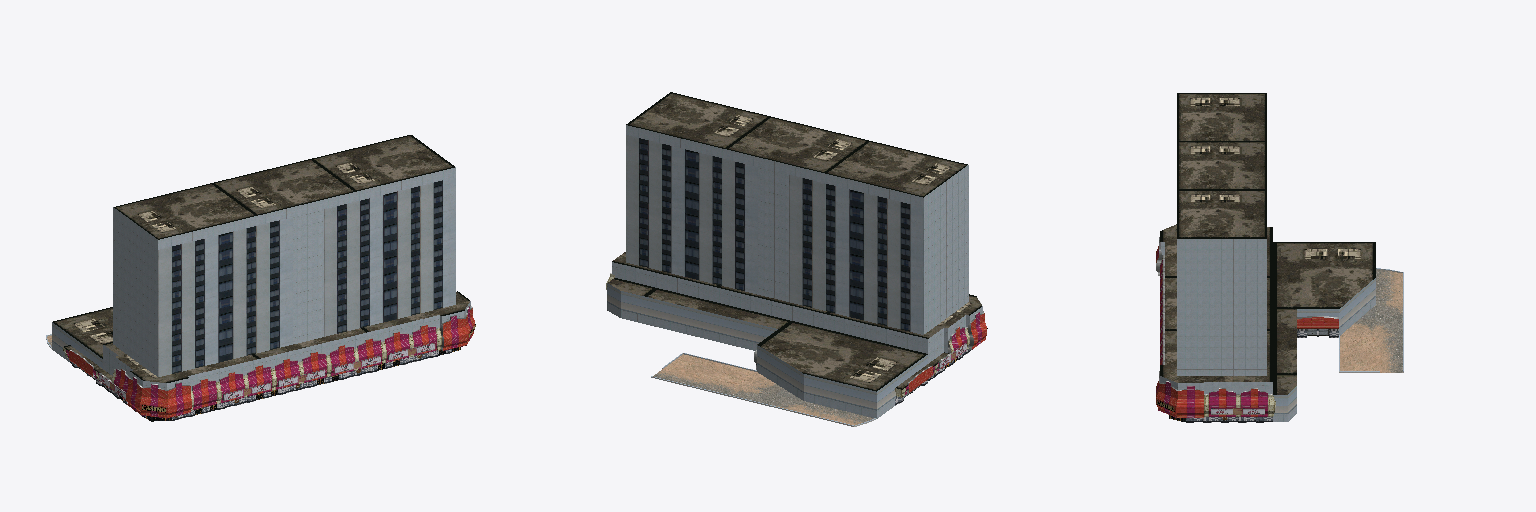
The picture shows the model from 3 angles: view 1: azimuth 30°, elevation 25°; view 2: azimuth 150°, elevation 25°; view 3: azimuth 270°, elevation 25°; orthographic projection.
Parts seen in each view (by area): view 1: e0fb4a8_obj, e0e80a8_obj, e0f7e50_obj, e0cc748_obj, e0ca0c8_obj, e0ea8e8_obj, e0c2ec8_obj, e0e0da8_obj, e0f57c0_obj; view 2: e0fb4a8_obj, e0e80a8_obj, e0f7e50_obj, e0f57c0_obj, e0b8428_obj, e0bc858_obj, e0cc748_obj, e0c0c78_obj, e0f2870_obj; view 3: e0e80a8_obj, e0f7e50_obj, e0cc748_obj, e0bc858_obj, e0f57c0_obj, e0b8428_obj, e0c0c78_obj, e0ea8e8_obj.
Boxes of the visible parts, x1=… form: e0fb4a8_obj: x1=158, y1=177, x2=455, y2=376; e0e80a8_obj: x1=53, y1=135, x2=469, y2=382; e0f7e50_obj: x1=52, y1=167, x2=470, y2=389; e0cc748_obj: x1=66, y1=307, x2=474, y2=418; e0ca0c8_obj: x1=99, y1=343, x2=435, y2=400; e0ea8e8_obj: x1=72, y1=349, x2=451, y2=418; e0c2ec8_obj: x1=63, y1=328, x2=441, y2=410; e0e0da8_obj: x1=70, y1=306, x2=472, y2=400; e0f57c0_obj: x1=52, y1=322, x2=102, y2=368; e0fb4a8_obj: x1=626, y1=135, x2=923, y2=334; e0e80a8_obj: x1=608, y1=92, x2=981, y2=391; e0f7e50_obj: x1=607, y1=125, x2=982, y2=418; e0f57c0_obj: x1=607, y1=283, x2=927, y2=410; e0b8428_obj: x1=662, y1=354, x2=755, y2=384; e0bc858_obj: x1=653, y1=370, x2=873, y2=425; e0cc748_obj: x1=905, y1=312, x2=986, y2=394; e0c0c78_obj: x1=727, y1=385, x2=812, y2=411; e0f2870_obj: x1=651, y1=353, x2=876, y2=426; e0e80a8_obj: x1=1160, y1=93, x2=1375, y2=394; e0f7e50_obj: x1=1160, y1=239, x2=1375, y2=421; e0cc748_obj: x1=1156, y1=246, x2=1338, y2=417; e0bc858_obj: x1=1375, y1=270, x2=1402, y2=372; e0f57c0_obj: x1=1273, y1=278, x2=1375, y2=413; e0b8428_obj: x1=1340, y1=337, x2=1381, y2=372; e0c0c78_obj: x1=1375, y1=301, x2=1402, y2=336; e0ea8e8_obj: x1=1186, y1=329, x2=1338, y2=422.
Bounding box in the file's own units: 182 × 93.22 × 116.
22 materials, 19 textured.